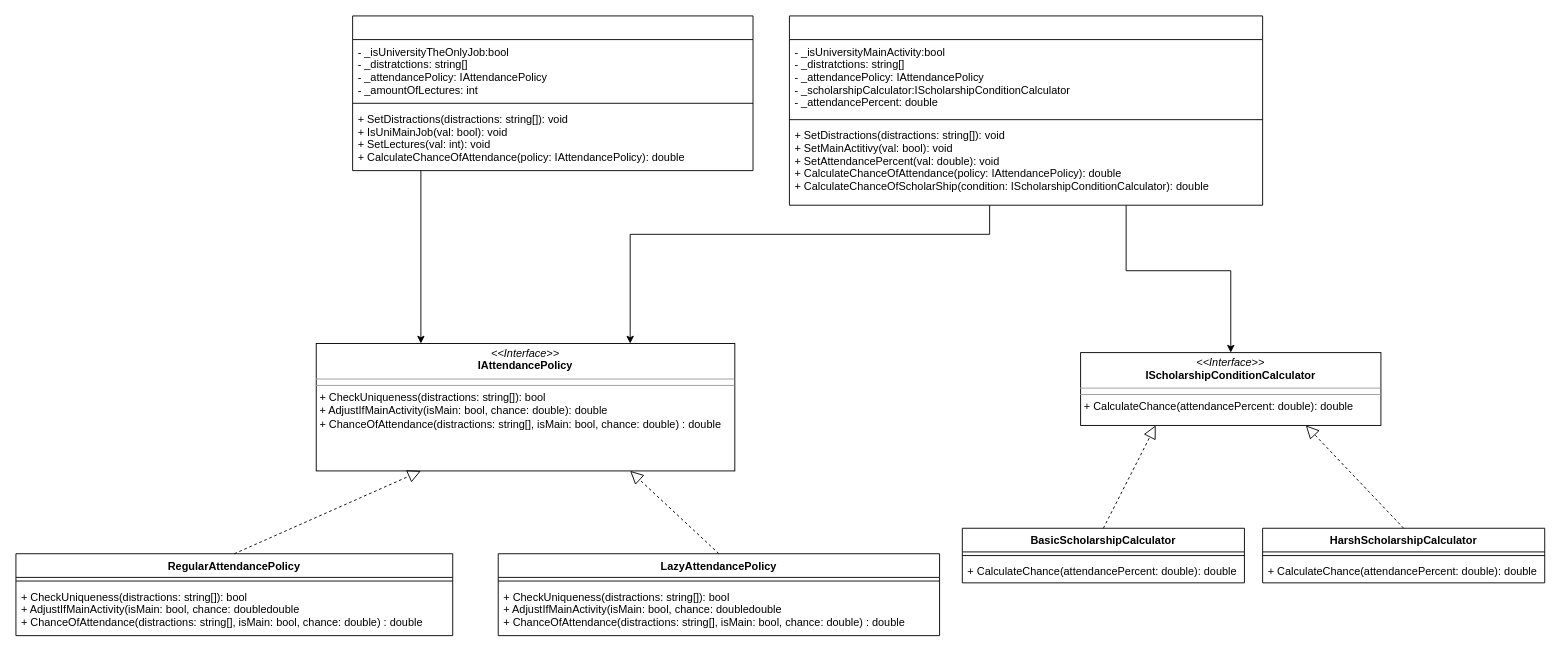
Image size: 1561x654. Some labels were removed from this diagram. Each missing label, with the box of its shape:
Lecturer: (352, 15, 753, 171)
Student: (789, 15, 1263, 205)
